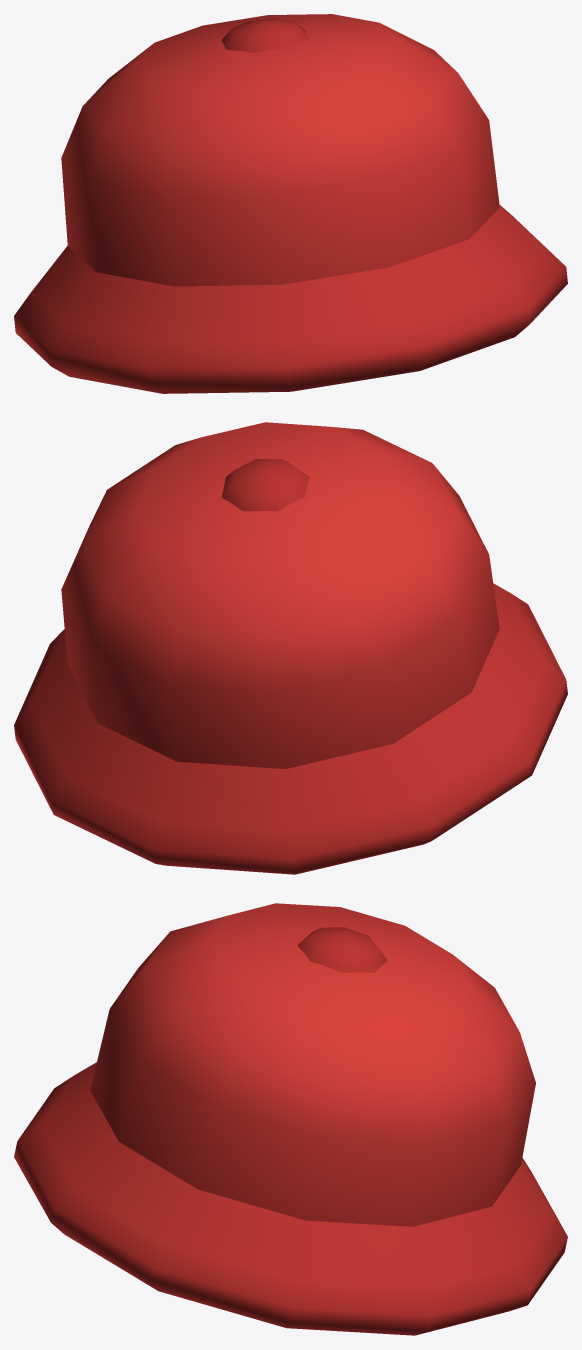
Rendered from Headgear_11.fbx.
The picture shows the model from 3 angles, top to bottom: view 1: azimuth 30°, elevation 25°; view 2: azimuth 150°, elevation 25°; view 3: azimuth 270°, elevation 25°; orthographic projection.
Visible parts, largest first — view 1: Headgear_11; view 2: Headgear_11; view 3: Headgear_11.
Boxes of the visible parts, x1,y1,x2,y2 form: Headgear_11: (14,14,567,393); Headgear_11: (14,422,567,874); Headgear_11: (14,903,567,1335).
Bounding box in the file's own units: 100 × 64.32 × 98.92.
